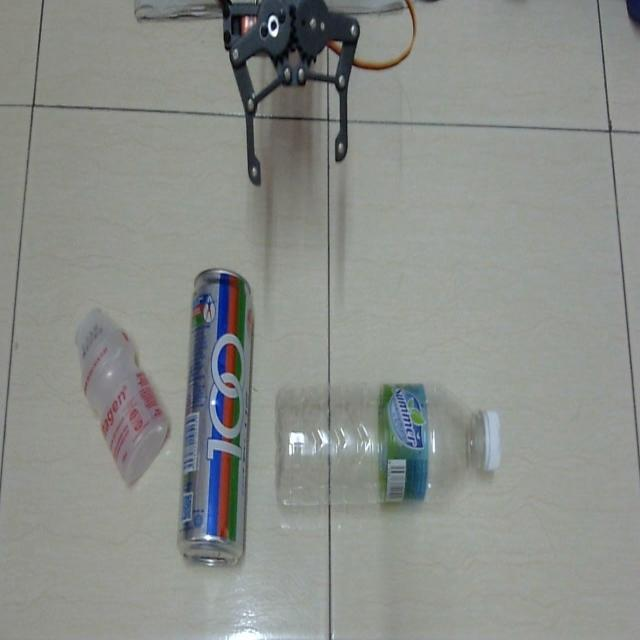Metal-laydown_0-rotation: (175, 252, 255, 568)
Plastic-laydown_45left-rotation: (66, 296, 172, 490)
Plastic-laydown_90-rotation: (269, 378, 506, 518)
